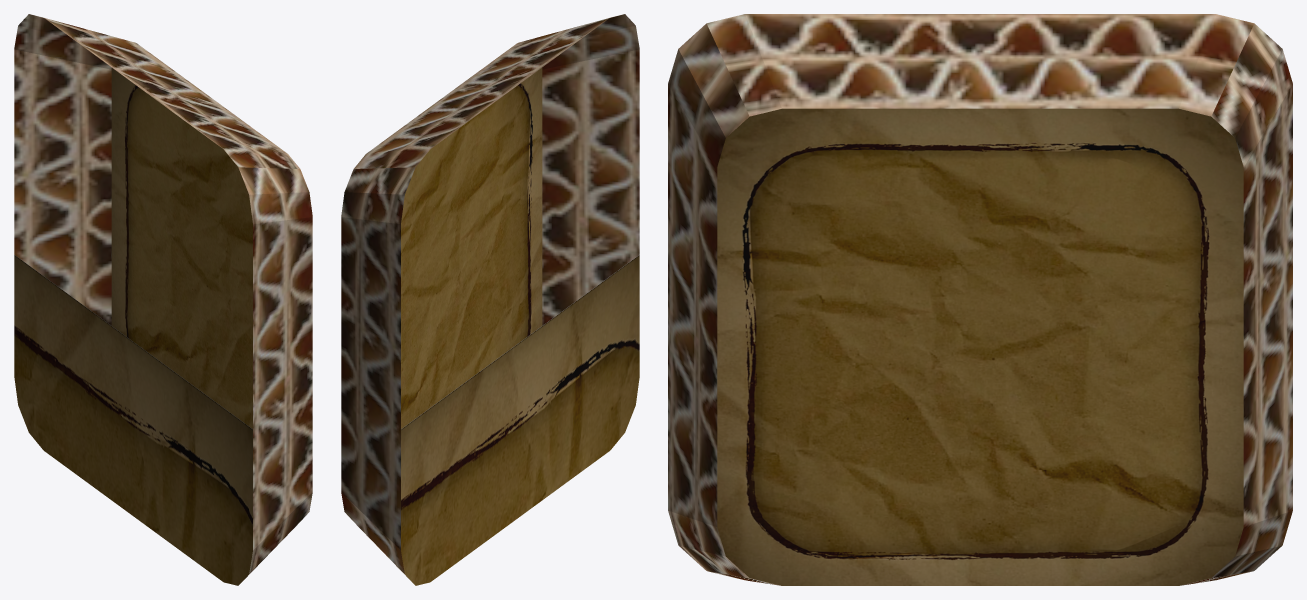
File: Inventory slot.fbx
3 renders of one model, left to right at view 1: azimuth 30°, elevation 25°; view 2: azimuth 150°, elevation 25°; view 3: azimuth 270°, elevation 25°, orthographic. The views are drawn at different scales.
Visible parts, largest first — view 1: Plane.013; view 2: Plane.013; view 3: Plane.013.
Boxes of the visible parts, <box> form: Plane.013: <box>14,14,312,585</box>; Plane.013: <box>341,14,639,585</box>; Plane.013: <box>668,14,1292,585</box>.
Bounding box in the file's own units: 7.62 × 40.1 × 40.1.
1 material, 1 textured.
